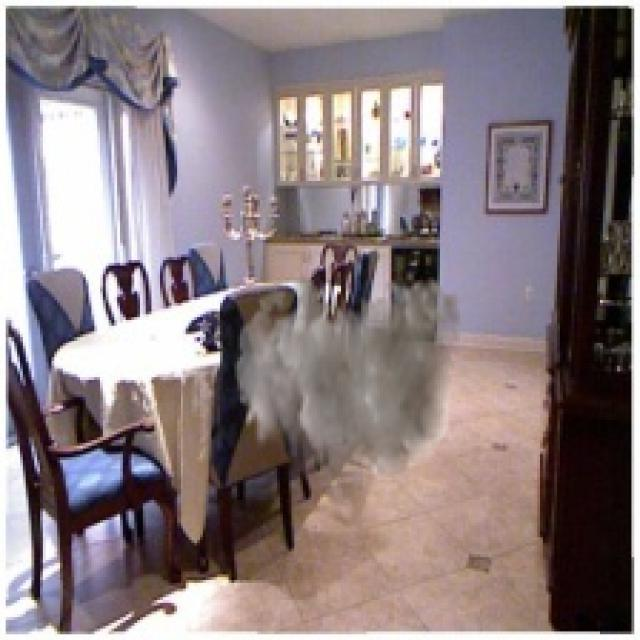Smoke: (234, 268, 463, 508)
